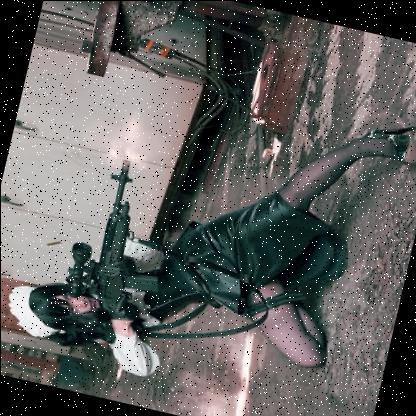rifle: (62, 148, 181, 341)
